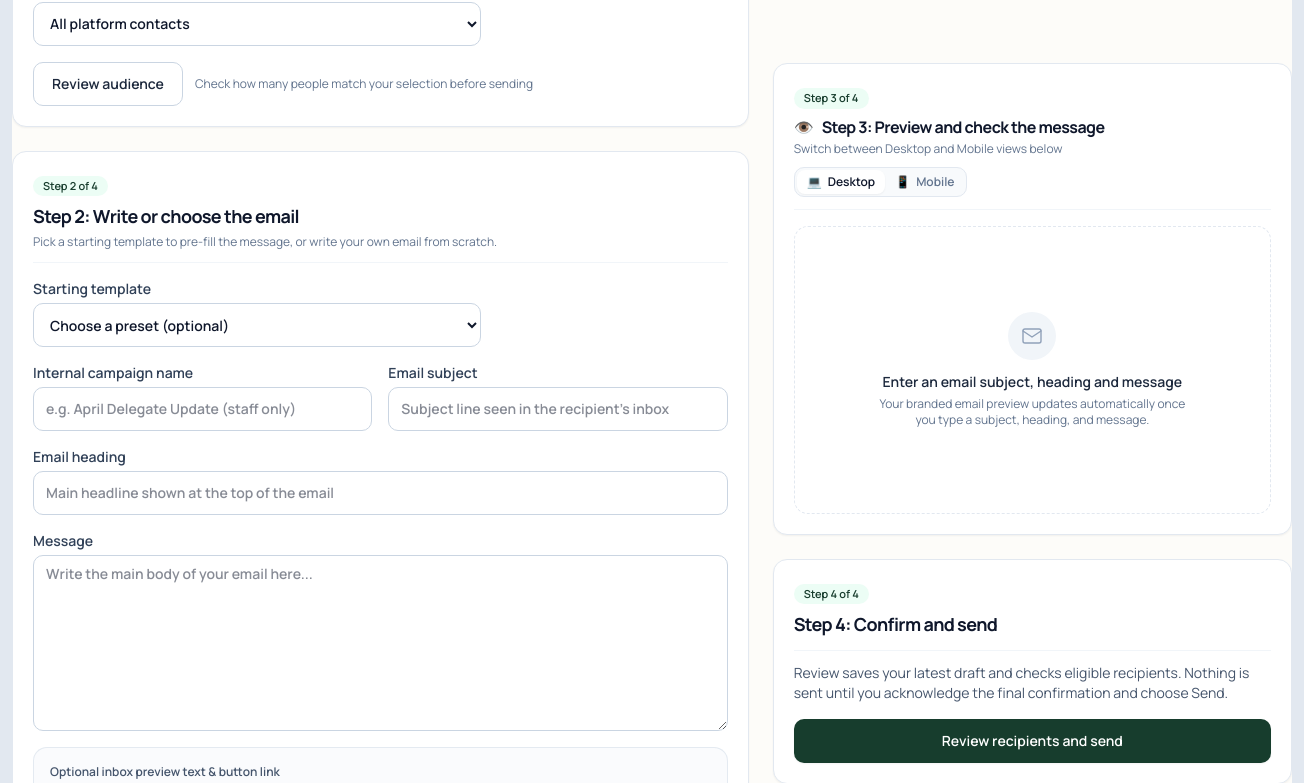
Scenario: Communications Centre › does not open final confirmation for an empty audience
(page scrolled)
Step 1. Click the button "Review recipients and send" → [1032, 741], box [794,719,1271,763]
(page scrolled)
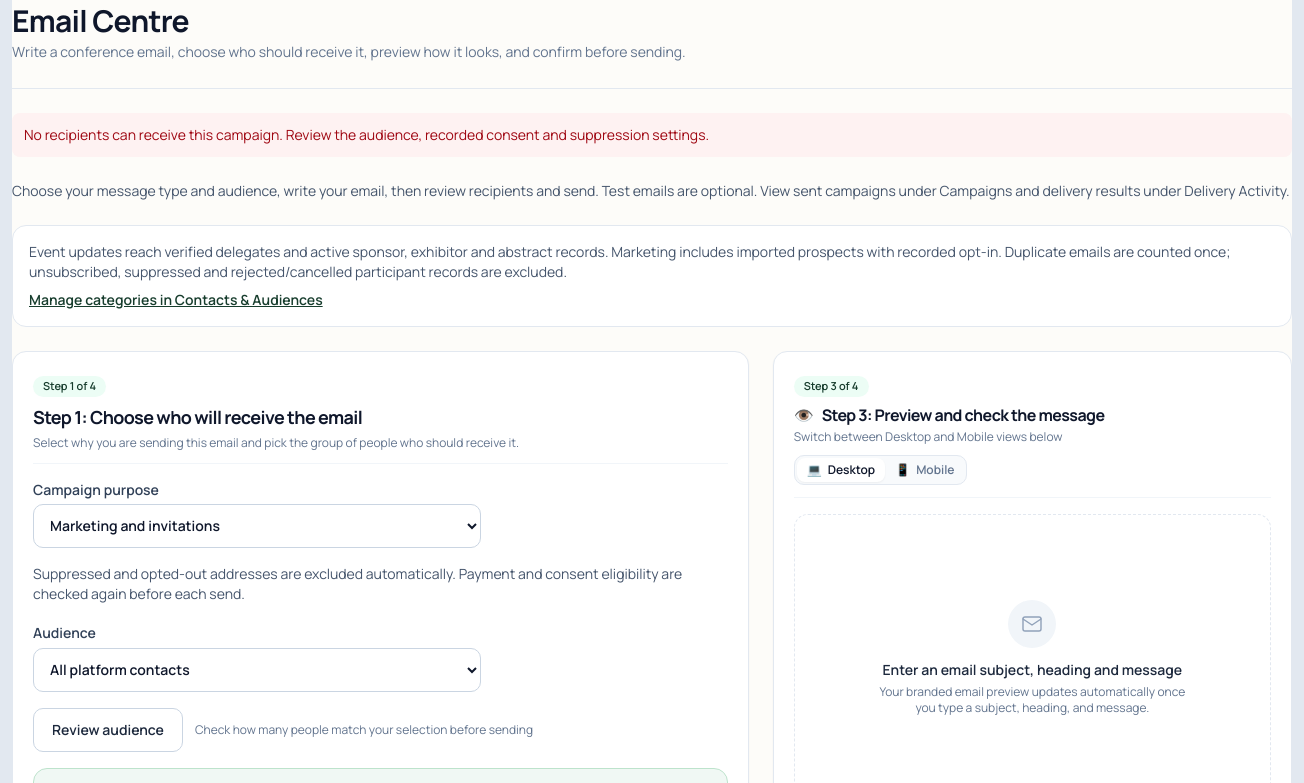
Expected: the 1st message shows "No recipients can receive", [24,125,709,144]
